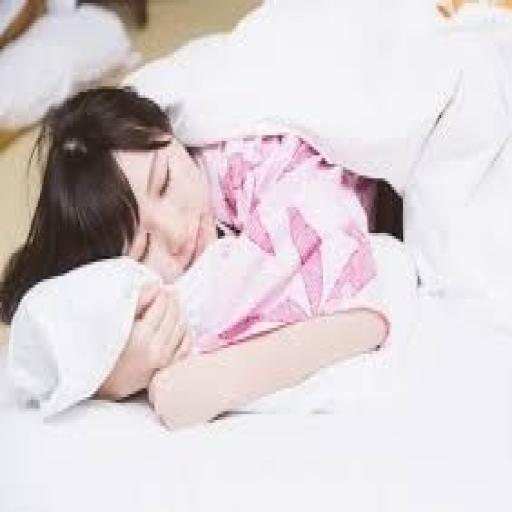sleeping: (0, 80, 405, 432)
